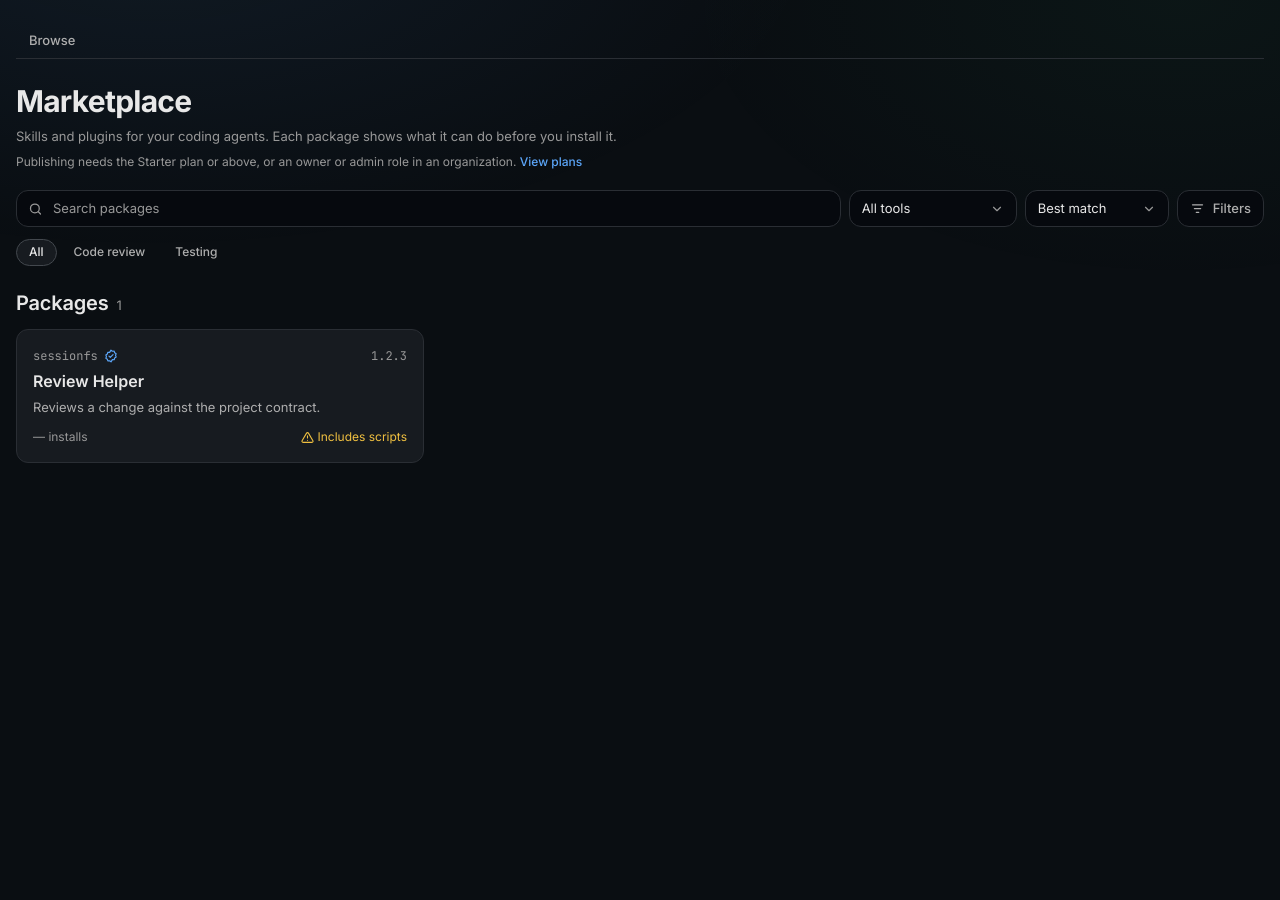
Test: MarketplacePage › renders declared behavior frontmatter in the trust dossier
Click the button "Review Helper": (220, 382) 33,370 -> 407,393
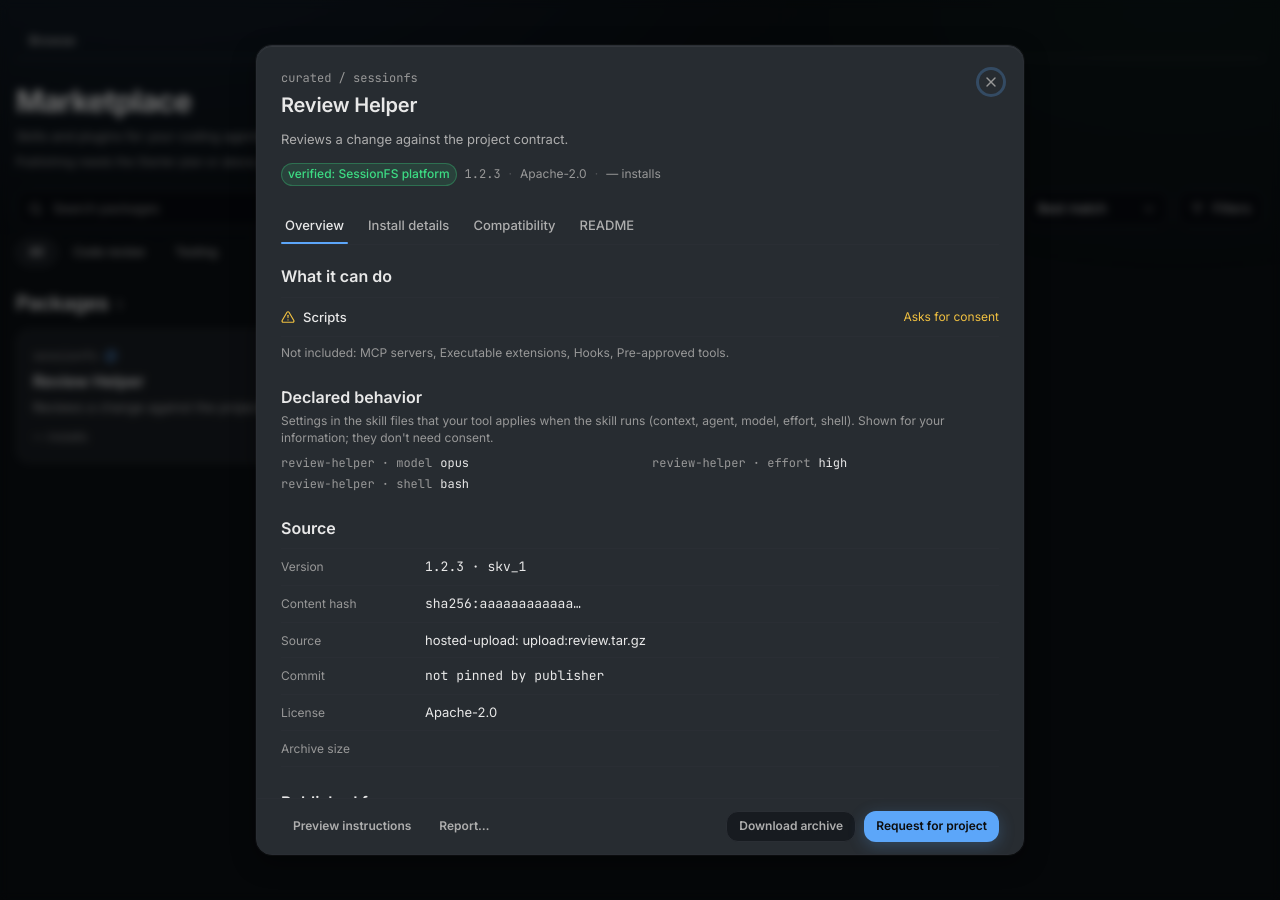
Check: the heading "Declared behavior" is shown, box 281,387 -> 422,407
Check: the text "review-helper · model" is shown, box 281,455 -> 432,472
Check: the text "opus" is shown, box 440,455 -> 469,472
